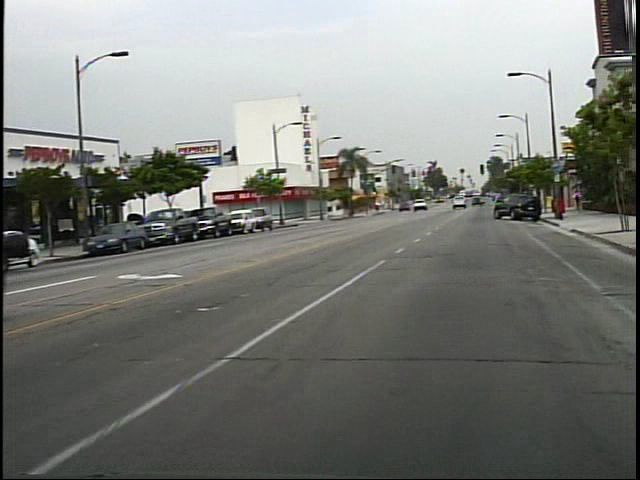person: (579, 188, 591, 214)
